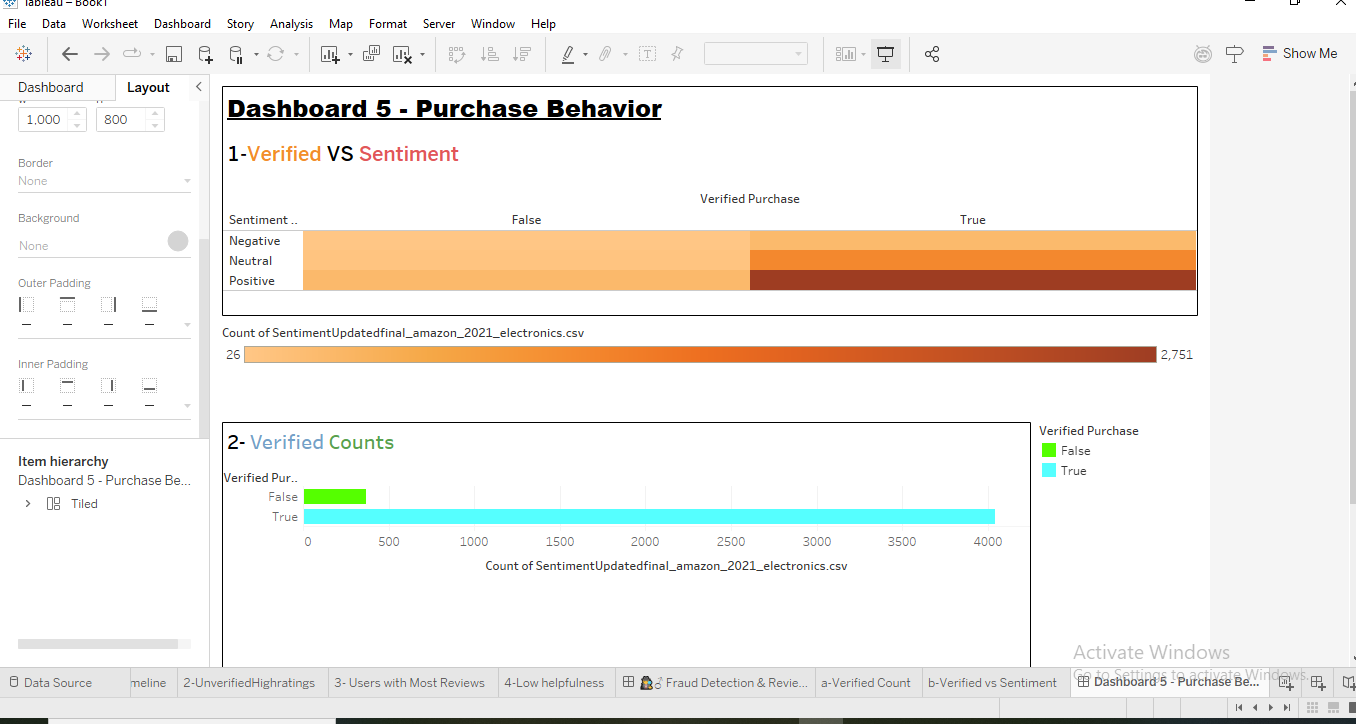

The dashboard page shown, as its layout file describes it:
{"tool":"tableau","page":{"name":"Dashboard 5 - Purchase Behavior","canvas":[1000,800],"ordinal":0},"visuals":[{"type":"worksheet","title":"b-Verified vs Sentiment","mark":"Square","rows":["sentiment_label"],"cols":["verified_purchase"],"box":[8,8,984,238]},{"type":"legend","title":"b-Verified vs Sentiment","param":"[federated.1t3j97001l90qf15kqw2o16jm9m2].[__tableau_internal_object_id__].[cnt:S","box":[8,246,984,98]},{"type":"worksheet","title":"a-Verified Count","mark":"Bar","rows":["verified_purchase"],"box":[8,344,817,448]},{"type":"legend","title":"a-Verified Count","param":"[federated.1t3j97001l90qf15kqw2o16jm9m2].[none:verified_purchase:nk]","box":[825,344,167,448]}]}

Visuals, with their boxes on the page's 1000x800 design canvas (x1, y1, x2, y2). These are canvas units, not pixel positions in the 1356x724 screenshot, which may show the page scaled, cropped or inside an application window:
"b-Verified vs Sentiment" worksheet (Square marks): (8,8,992,246)
"b-Verified vs Sentiment" legend: (8,246,992,344)
"a-Verified Count" worksheet (Bar marks): (8,344,825,792)
"a-Verified Count" legend: (825,344,992,792)
